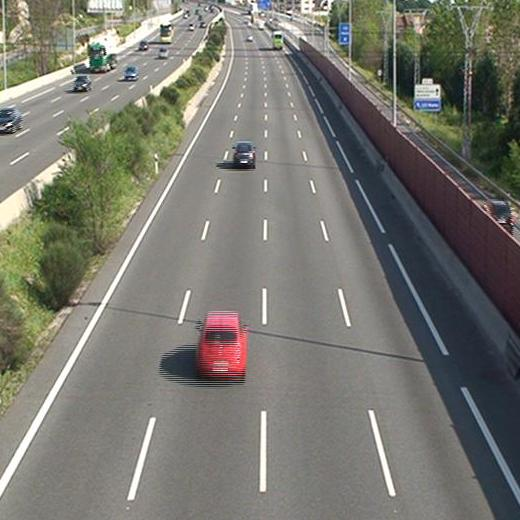bus: (273, 32, 282, 48)
car: (197, 313, 245, 374), (233, 142, 255, 165)
